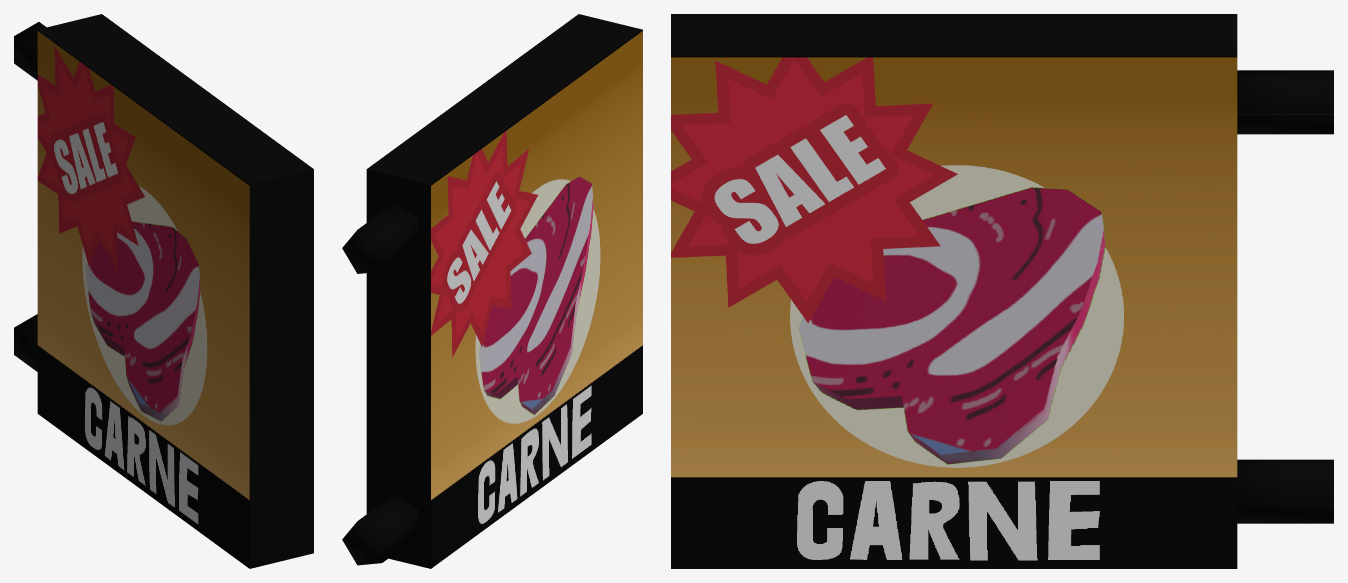
The model's file is Cartello_scaffale.fbx.
The picture shows the model from 3 angles, left to right: view 1: azimuth 30°, elevation 25°; view 2: azimuth 150°, elevation 25°; view 3: azimuth 270°, elevation 25°; orthographic projection. The views are drawn at different scales.
Parts seen in each view (by area): view 1: Cube.005; view 2: Cube.005; view 3: Cube.005.
Boxes of the visible parts, bbox=[...] form: Cube.005: bbox=[14, 14, 313, 568]; Cube.005: bbox=[342, 14, 642, 568]; Cube.005: bbox=[671, 14, 1333, 568].
Bounding box in the file's own units: 7.97 × 45.64 × 53.43.
